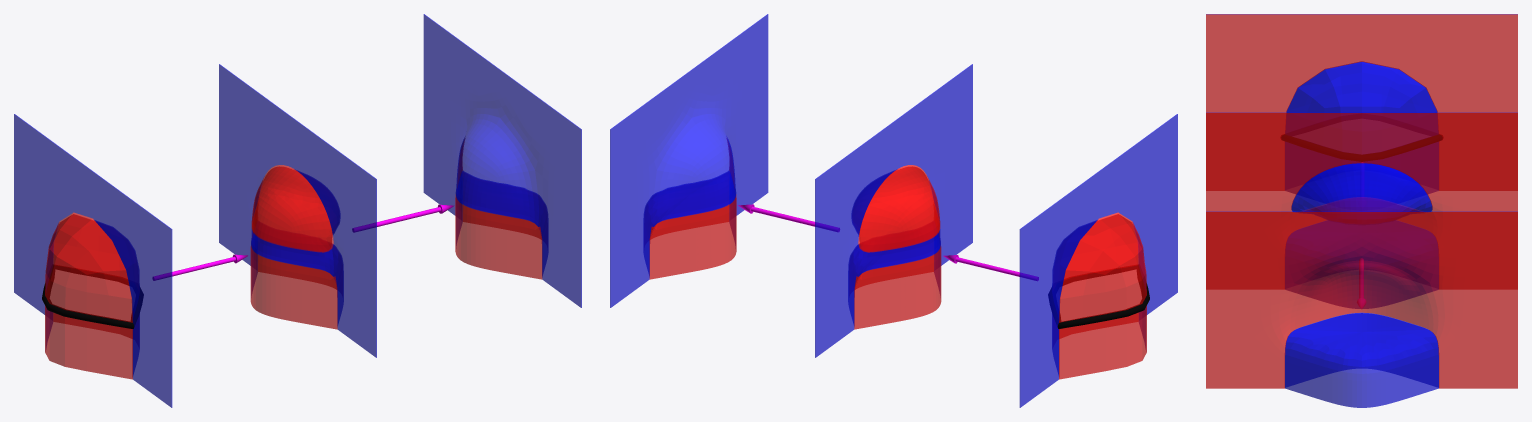
Rendered from reduced2compression.glb.
3 renders of one model, left to right at view 1: azimuth 30°, elevation 25°; view 2: azimuth 150°, elevation 25°; view 3: azimuth 270°, elevation 25°, orthographic.
Visible parts, largest first — view 1: Circle.002, Circle.001, Circle, merid_disk, merid_disk.001, NurbsPath.001; view 2: Circle.002, Circle.001, Circle, merid_disk, merid_disk.001, NurbsPath.001, NurbsPath; view 3: Circle.002, Circle.001, Circle, merid_disk.001.
Part boxes in pixels (box(x1,y1,x2,y2)): Circle.002: box(423, 14, 581, 307); Circle.001: box(219, 64, 376, 357); Circle: box(14, 114, 172, 407); merid_disk: box(50, 270, 131, 320); merid_disk.001: box(42, 265, 143, 328); NurbsPath.001: box(352, 204, 454, 232); Circle.002: box(610, 14, 768, 307); Circle.001: box(815, 64, 972, 357); Circle: box(1019, 114, 1177, 407); merid_disk: box(1060, 270, 1141, 321); merid_disk.001: box(1048, 265, 1149, 328); NurbsPath.001: box(738, 204, 839, 231); NurbsPath: box(943, 255, 1038, 280); Circle.002: box(1206, 211, 1517, 407); Circle.001: box(1206, 112, 1517, 308); Circle: box(1206, 14, 1517, 193); merid_disk.001: box(1281, 134, 1442, 161).
Size of the model in its own units: 7.28 by 2.5 by 4.
